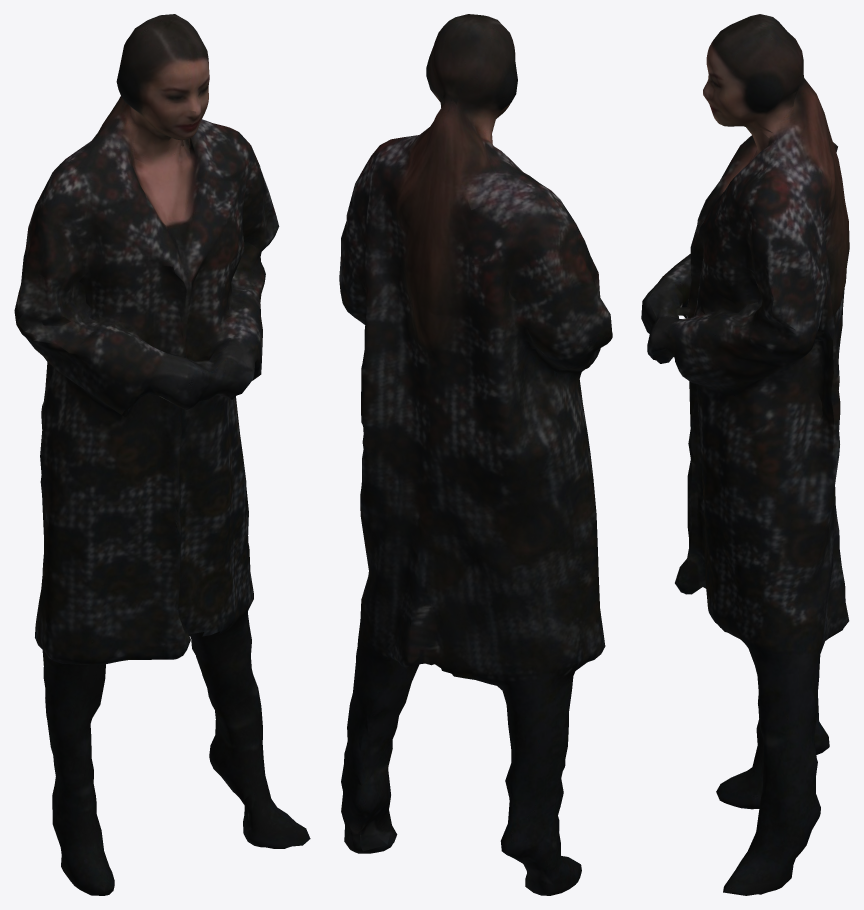
The model's file is evercoast.0003.gltf.
3 renders of one model, left to right at view 1: azimuth 30°, elevation 25°; view 2: azimuth 150°, elevation 25°; view 3: azimuth 270°, elevation 25°, orthographic. The views are drawn at different scales.
Parts seen in each view (by area): view 1: HIGH; view 2: HIGH; view 3: HIGH.
Part boxes in pixels (x1,y1,x2,y2): HIGH: (14, 14, 310, 895); HIGH: (339, 14, 612, 895); HIGH: (641, 14, 849, 895).
Size of the model in its own units: 0.6197 by 1.83 by 0.4212.
Materials: 1 (1 with a texture image).
